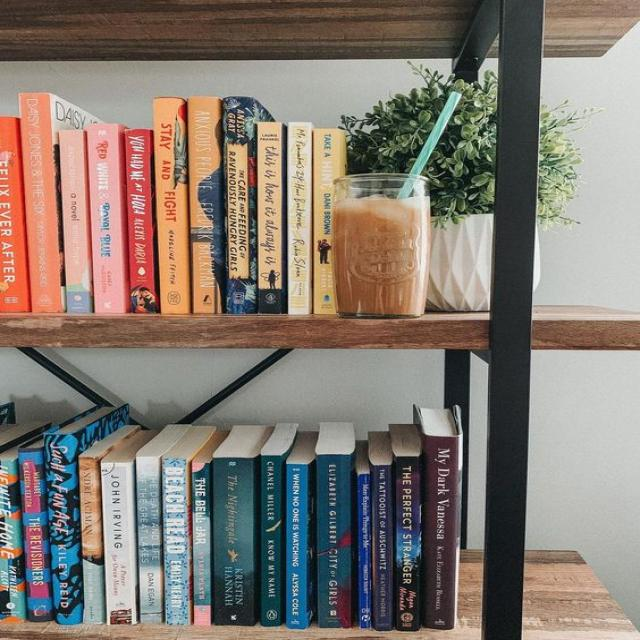book: (47, 416, 100, 624), (225, 97, 272, 314), (19, 94, 62, 312), (212, 456, 259, 626), (154, 97, 190, 313), (89, 123, 128, 313), (188, 98, 222, 314), (425, 433, 461, 630), (312, 128, 345, 315), (19, 441, 53, 621), (0, 117, 30, 312), (256, 123, 286, 313), (60, 130, 91, 313), (102, 463, 134, 628), (322, 454, 352, 629), (126, 131, 155, 312), (287, 123, 312, 314), (162, 459, 190, 624), (0, 450, 26, 621), (285, 462, 311, 626), (137, 455, 162, 625), (396, 454, 420, 631), (80, 457, 104, 623), (261, 454, 283, 626), (373, 464, 395, 630), (193, 462, 212, 628), (359, 472, 369, 627)
plants: (342, 65, 497, 223), (539, 102, 592, 224)
